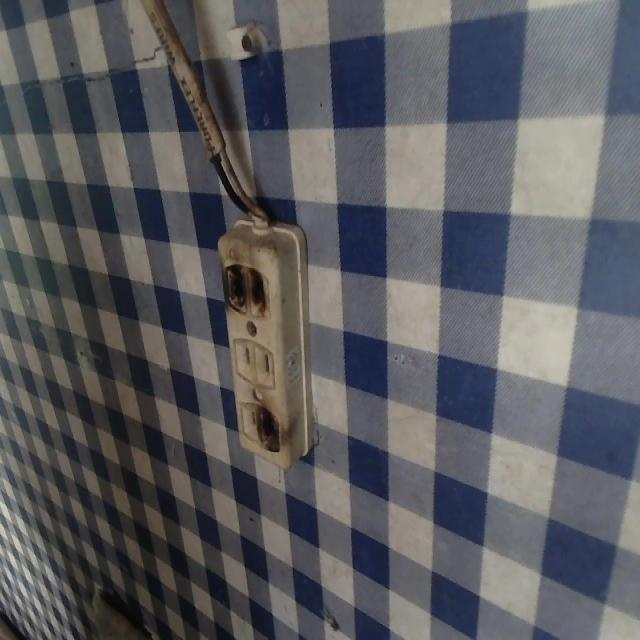-: (218, 257, 272, 323), (253, 400, 281, 453)
